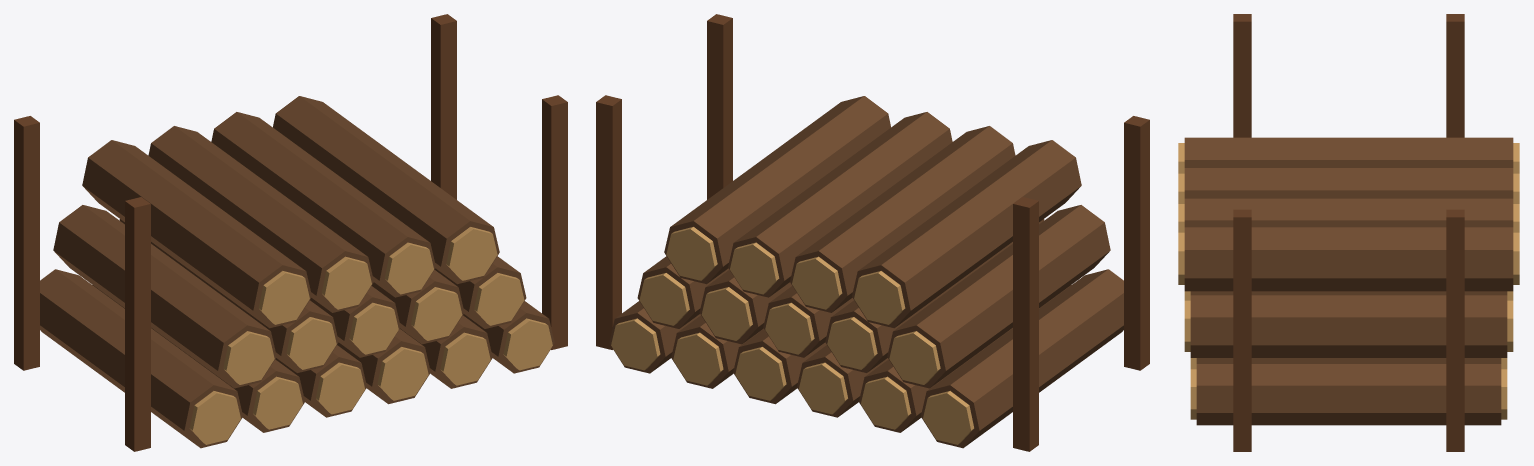
The model's file is woodpile-pixor.glb.
3 renders of one model, left to right at view 1: azimuth 30°, elevation 25°; view 2: azimuth 150°, elevation 25°; view 3: azimuth 270°, elevation 25°, orthographic. The views are drawn at different scales.
Parts seen in each view (by area): view 1: Woodpile logs, Woodpile stakes; view 2: Woodpile logs, Woodpile stakes; view 3: Woodpile logs, Woodpile stakes.
Boxes of the visible parts, x1,y1,x2,y2 form: Woodpile logs: (40, 96, 554, 448); Woodpile stakes: (14, 14, 567, 451); Woodpile logs: (609, 96, 1123, 448); Woodpile stakes: (596, 14, 1149, 451); Woodpile logs: (1178, 137, 1519, 425); Woodpile stakes: (1233, 14, 1464, 451).
Bounding box in the file's own units: 1.58 × 0.8501 × 1.12.
